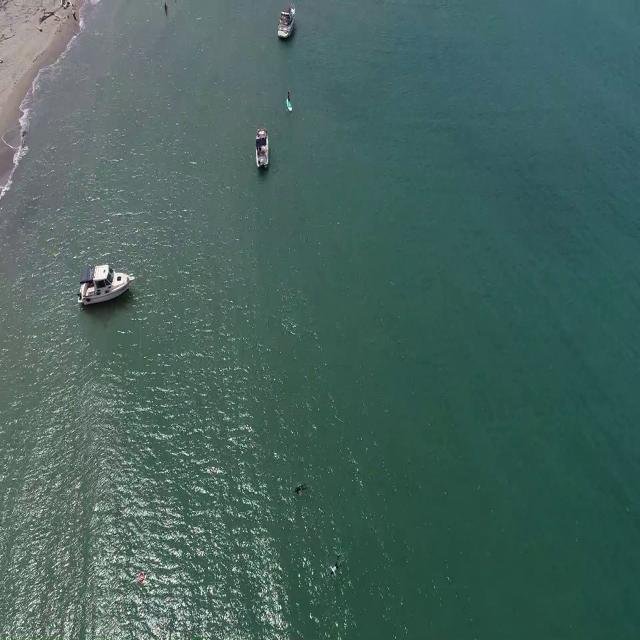boat: (78, 265, 133, 304), (277, 1, 296, 40), (255, 129, 273, 170)
life_buoy: (139, 570, 145, 583)
person: (328, 559, 344, 583), (294, 483, 308, 498), (162, 1, 170, 15), (287, 92, 293, 106)
surfboard: (284, 99, 294, 112)
